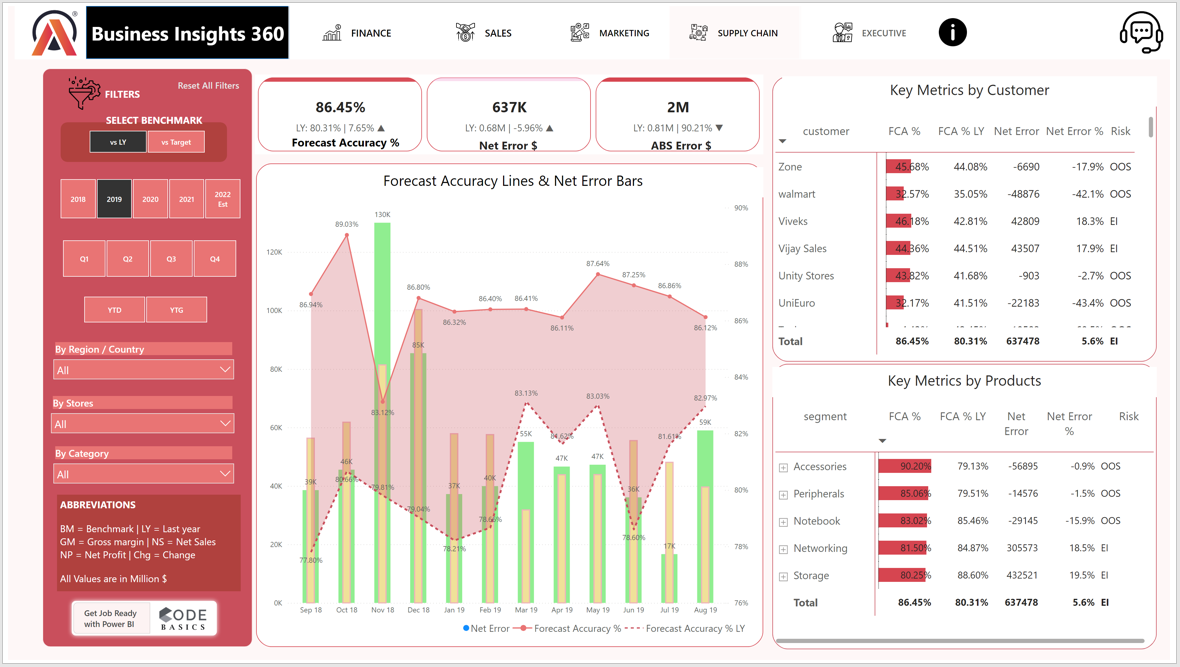

The page's visual inventory and layout, read from the dashboard file:
{"tool":"powerbi","page":{"name":"Supply Chain View","canvas":[1920,1080],"ordinal":4},"visuals":[{"type":"shape","box":[410.2,259.6,837.8,798.5],"z":0},{"type":"shape","box":[97.6,974.8,254.3,72],"z":0,"group":"g1"},{"type":"shape","box":[10.9,0,1909.1,88],"z":1000},{"type":"shape","box":[107.4,984.8,127,51.7],"z":1000,"group":"g1"},{"type":"image","box":[26.2,0,102.5,87.3],"z":2000},{"type":"image","box":[240.3,991.8,96,40],"z":2000,"group":"g1"},{"type":"shape","box":[128.7,0,336,87.3],"z":3000},{"type":"actionButton","box":[462.5,0,220.4,87.3],"z":4000},{"type":"actionButton","box":[676.4,0,218.2,87.3],"z":5000},{"type":"actionButton","box":[881.5,0,218.2,87.3],"z":6000},{"type":"actionButton","box":[1093.1,0,218.2,87.3],"z":7000},{"type":"actionButton","box":[1306.9,0,218.2,87.3],"z":8000},{"type":"image","box":[1525.1,15.3,72,56.7],"z":9000},{"type":"image","box":[1826.2,2.2,93.8,82.9],"z":10000},{"type":"shape","box":[56.7,102.5,346.9,955.6],"z":11000},{"type":"image","box":[91.6,111.3,69.8,65.5],"z":12000},{"type":"textbox","box":[139.6,128.7,98.2,39.3],"z":13000},{"type":"slicer","fields":{"Values":["fiscal_year.fy_description"]},"box":[61.1,279.3,346.9,78.5],"z":14000},{"type":"slicer","fields":{"Values":["dim_date.Quarter"]},"box":[65.5,379.6,336,74.2],"z":15000},{"type":"slicer","fields":{"Values":["dim_date.ytd_ytg"]},"box":[100.4,473.5,253.1,56.7],"z":16000},{"type":"slicer","fields":{"Values":["gdb041 dim_market.region","gdb041 dim_market.market"]},"box":[65.5,549.8,318.5,72],"z":17000},{"type":"slicer","fields":{"Values":["gdb041 dim_product.category"]},"box":[65.5,722.2,318.5,76.4],"z":18000},{"type":"slicer","fields":{"Values":["gdb041 dim_customer.customer"]},"box":[61.1,639.3,322.9,76.4],"z":19000},{"type":"group","id":"g1","title":"Group 4","box":[97.6,974.8,255.3,72],"z":20000},{"type":"textbox","box":[80.7,807.3,303.3,159.3],"z":21000},{"type":"shape","box":[87.3,192,274.9,65.5],"z":22000},{"type":"textbox","box":[150.5,172.4,181.1,39.3],"z":23000},{"type":"slicer","fields":{"Values":["Set BM.Benchmarks"]},"box":[109.1,198.5,240,50.2],"z":24000},{"type":"actionButton","box":[272.7,104.7,130.9,50.2],"z":25000},{"type":"cardVisual","fields":{"Data":["Report Measure.Forecast Accuracy %","Report Measure.Net Error","Report Measure.ABS Error"]},"box":[408,113.5,840,132],"z":29000},{"type":"textbox","box":[759.3,211.6,135.3,37.1],"z":30000},{"type":"textbox","box":[438.5,207.3,237.8,39.3],"z":31000},{"type":"textbox","box":[1023.3,211.6,178.9,34.9],"z":32000},{"type":"lineClusteredColumnComboChart","fields":{"Category":["dim_date.date"],"Y":["Report Measure.Net Error"],"Y2":["Report Measure.Forecast Accuracy %","Report Measure.Forecast Accuracy % LY"]},"box":[421.1,318.5,807.3,728.7],"z":33000},{"type":"textbox","box":[421.1,266.2,826.9,50.2],"z":34000},{"type":"shape","box":[1263.3,115.6,634.9,471.3],"z":35000},{"type":"shape","box":[1263.3,591.3,634.9,471.3],"z":36000},{"type":"pivotTable","fields":{"Rows":["gdb041 dim_customer.customer"],"Values":["Report Measure.Forecast Accuracy %","Report Measure.Forecast Accuracy % LY","Report Measure.Net Error","Report Measure.Net Error %","Report Measure.Risk"]},"box":[1263.3,176.7,634.9,403.6],"z":37000},{"type":"textbox","box":[1278.5,115.6,619.6,50.2],"z":38000},{"type":"pivotTable","fields":{"Rows":["gdb041 dim_product.segment","gdb041 dim_product.product"],"Values":["Report Measure.Forecast Accuracy %","Report Measure.Forecast Accuracy % LY","Report Measure.Net Error","Report Measure.Net Error %","Report Measure.Risk"]},"box":[1263.3,648,634.9,410.2],"z":39000},{"type":"textbox","box":[1263.3,595.6,634.9,50.2],"z":40000}]}

Visuals, with their boxes in screenshot pixels (x1, y1, x2, y2), scaled from the page's 1920x1080 canvas onto the 1180x667 screenshot:
shape: bbox=[252, 160, 767, 653]
shape: bbox=[60, 602, 216, 646]
shape: bbox=[7, 0, 1179, 54]
shape: bbox=[66, 608, 144, 640]
image: bbox=[16, 0, 79, 54]
image: bbox=[148, 613, 207, 637]
shape: bbox=[79, 0, 286, 54]
actionButton: bbox=[284, 0, 420, 54]
actionButton: bbox=[416, 0, 550, 54]
actionButton: bbox=[542, 0, 676, 54]
actionButton: bbox=[672, 0, 806, 54]
actionButton: bbox=[803, 0, 937, 54]
image: bbox=[937, 9, 982, 44]
image: bbox=[1122, 1, 1179, 53]
shape: bbox=[35, 63, 248, 653]
image: bbox=[56, 69, 99, 109]
textbox: bbox=[86, 79, 146, 104]
slicer - fiscal_year.fy_description: bbox=[38, 172, 251, 221]
slicer - dim_date.Quarter: bbox=[40, 234, 247, 280]
slicer - dim_date.ytd_ytg: bbox=[62, 292, 217, 327]
slicer - gdb041 dim_market.region x gdb041 dim_market.market: bbox=[40, 340, 236, 384]
slicer - gdb041 dim_product.category: bbox=[40, 446, 236, 493]
slicer - gdb041 dim_customer.customer: bbox=[38, 395, 236, 442]
"Group 4" group: bbox=[60, 602, 217, 646]
textbox: bbox=[50, 499, 236, 597]
shape: bbox=[54, 119, 223, 159]
textbox: bbox=[92, 106, 204, 131]
slicer - Set BM.Benchmarks: bbox=[67, 123, 215, 154]
actionButton: bbox=[168, 65, 248, 96]
cardVisual - Report Measure.Forecast Accuracy % x Report Measure.Net Error: bbox=[251, 70, 767, 152]
textbox: bbox=[467, 131, 550, 154]
textbox: bbox=[269, 128, 416, 152]
textbox: bbox=[629, 131, 739, 152]
lineClusteredColumnComboChart - dim_date.date x Report Measure.Net Error: bbox=[259, 197, 755, 647]
textbox: bbox=[259, 164, 767, 195]
shape: bbox=[776, 71, 1167, 362]
shape: bbox=[776, 365, 1167, 656]
pivotTable - gdb041 dim_customer.customer x Report Measure.Forecast Accuracy %: bbox=[776, 109, 1167, 358]
textbox: bbox=[786, 71, 1167, 102]
pivotTable - gdb041 dim_product.segment x gdb041 dim_product.product: bbox=[776, 400, 1167, 654]
textbox: bbox=[776, 368, 1167, 399]
